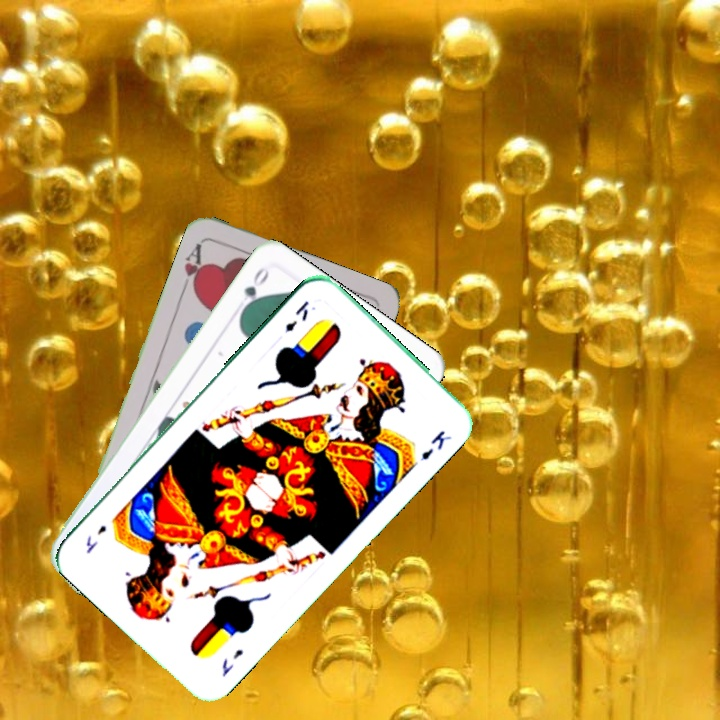EK: (281, 296, 312, 334), (217, 645, 246, 680)
GO: (237, 263, 273, 317)
HA: (177, 239, 208, 298)
